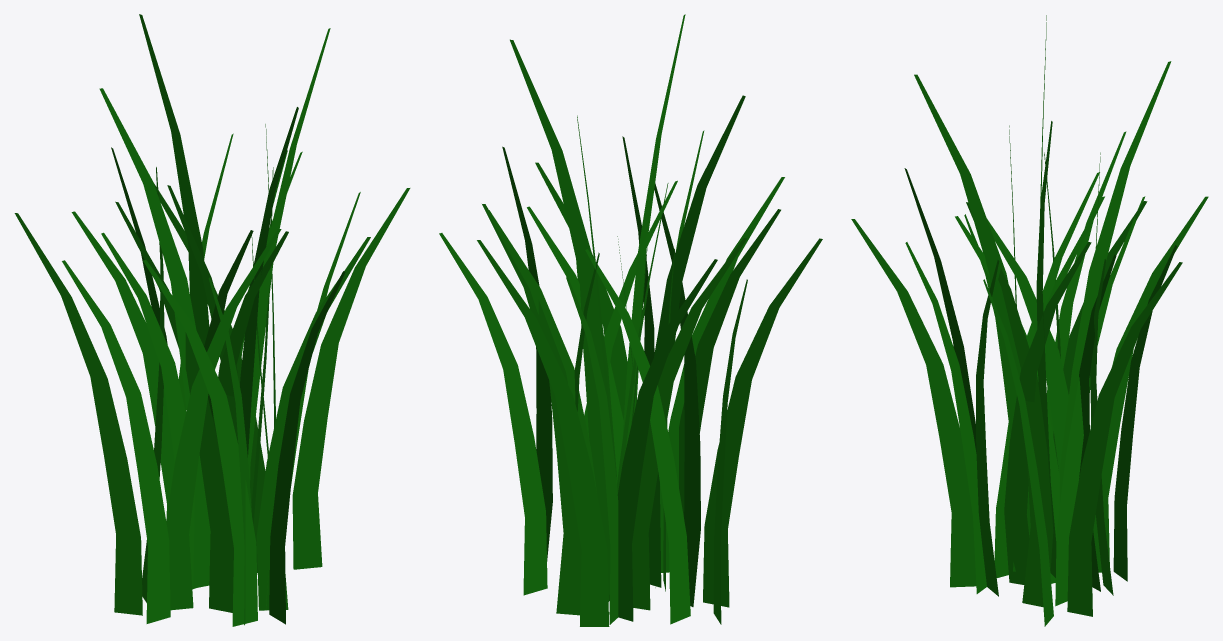
Rendered from grasstuft.glb.
3 renders of one model, left to right at view 1: azimuth 30°, elevation 25°; view 2: azimuth 150°, elevation 25°; view 3: azimuth 270°, elevation 25°, orthographic. The views are drawn at different scales.
Parts seen in each view (by area): view 1: Asset3DLoader.sceneRoot; view 2: Asset3DLoader.sceneRoot; view 3: Asset3DLoader.sceneRoot.
Part boxes in pixels (left/top/right/bottom): Asset3DLoader.sceneRoot: left=14, top=14, right=410, bottom=626; Asset3DLoader.sceneRoot: left=439, top=14, right=822, bottom=626; Asset3DLoader.sceneRoot: left=851, top=15, right=1208, bottom=626.
Bounding box in the file's own units: 239 × 364 × 231.
